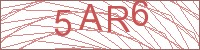5: (53, 9, 73, 37)
6: (131, 1, 149, 27)
A: (78, 2, 103, 32)
R: (106, 5, 132, 34)
